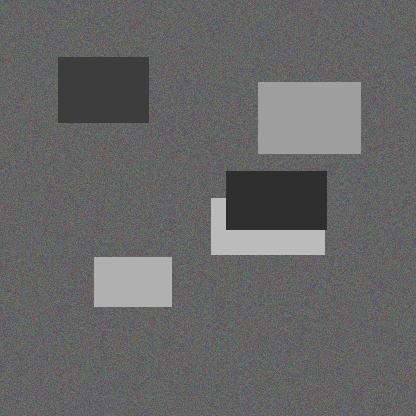occupied: (292, 124, 362, 206), (197, 99, 272, 164)
